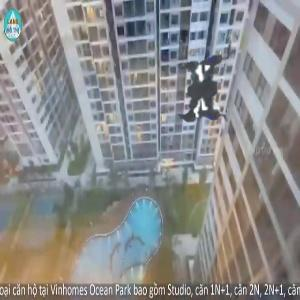drone: (122, 2, 299, 179)
